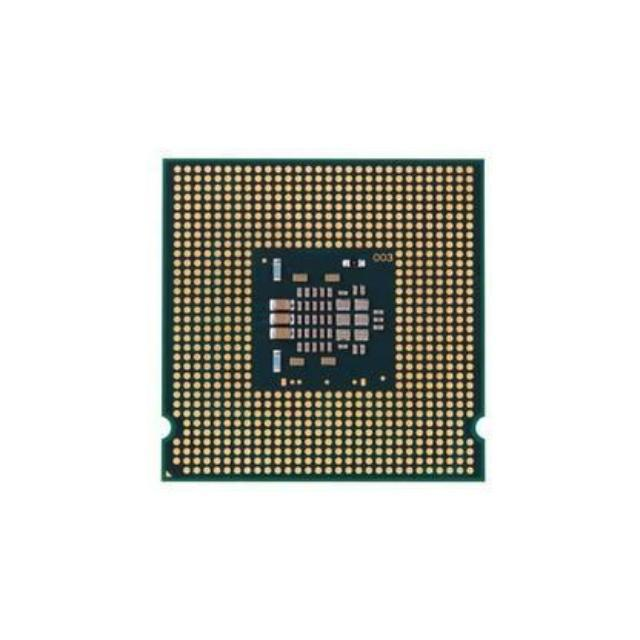CPU: (156, 159, 484, 487)
